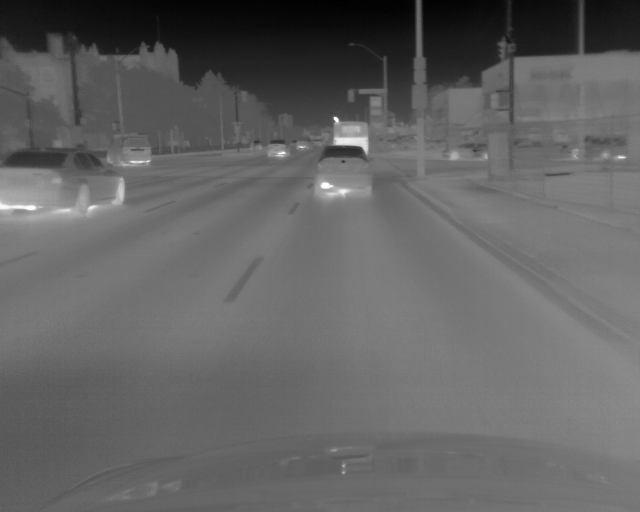car: (1, 147, 125, 216), (313, 146, 371, 197), (105, 132, 150, 165), (332, 120, 370, 159), (442, 142, 484, 161), (266, 138, 289, 158), (292, 137, 310, 151)
